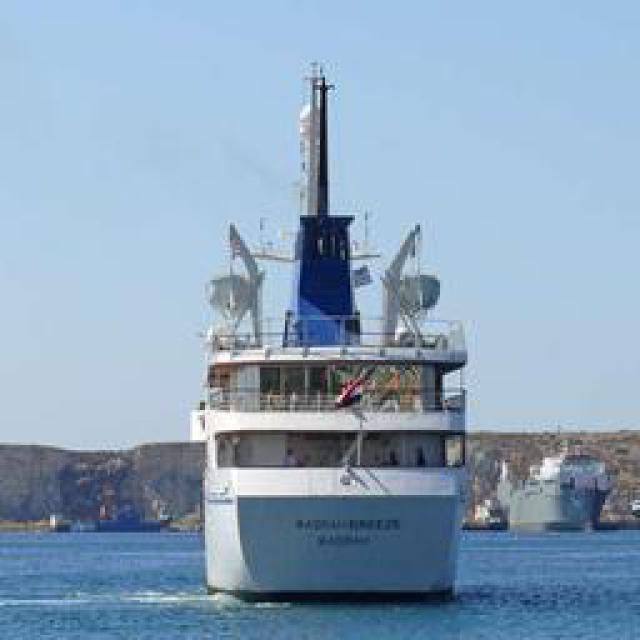Ship: (198, 95, 473, 598)
